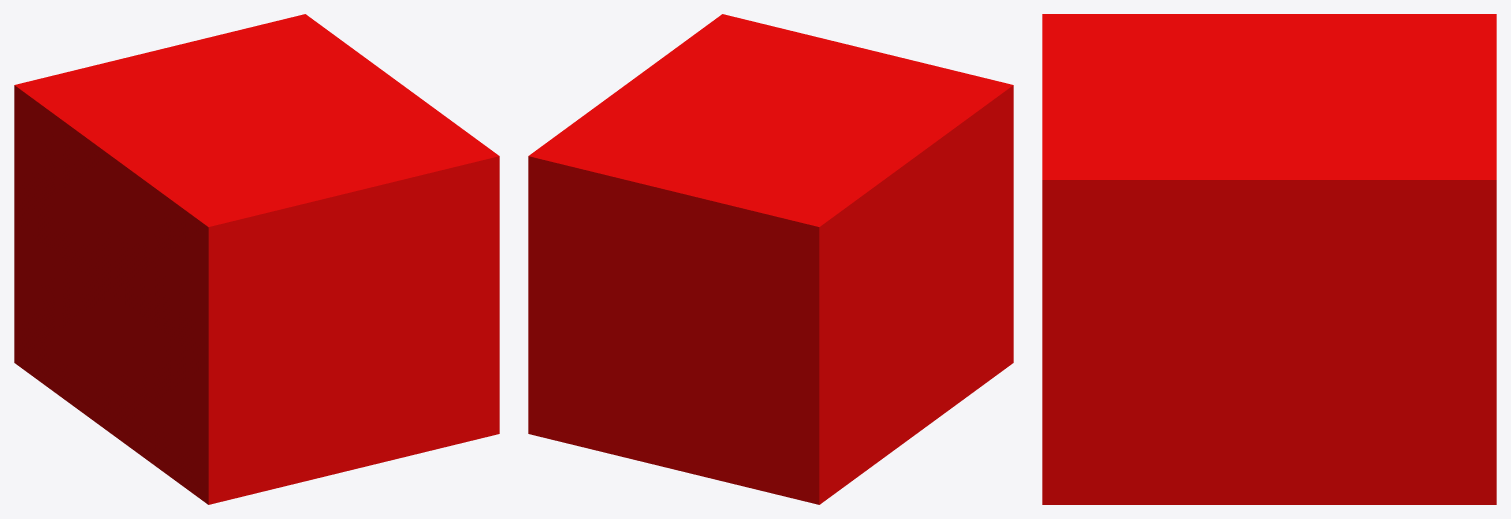
The model's file is trapezium_lvs_col.dae.
3 renders of one model, left to right at view 1: azimuth 30°, elevation 25°; view 2: azimuth 150°, elevation 25°; view 3: azimuth 270°, elevation 25°, orthographic. The views are drawn at different scales.
Visible parts, largest first — view 1: node0; view 2: node0; view 3: node0.
Boxes of the visible parts, x1=… form: node0: x1=14, y1=14, x2=499, y2=504; node0: x1=528, y1=14, x2=1013, y2=504; node0: x1=1042, y1=14, x2=1496, y2=504.
Size of the model in its own units: 0.0183 by 0.0167 by 0.0212.
